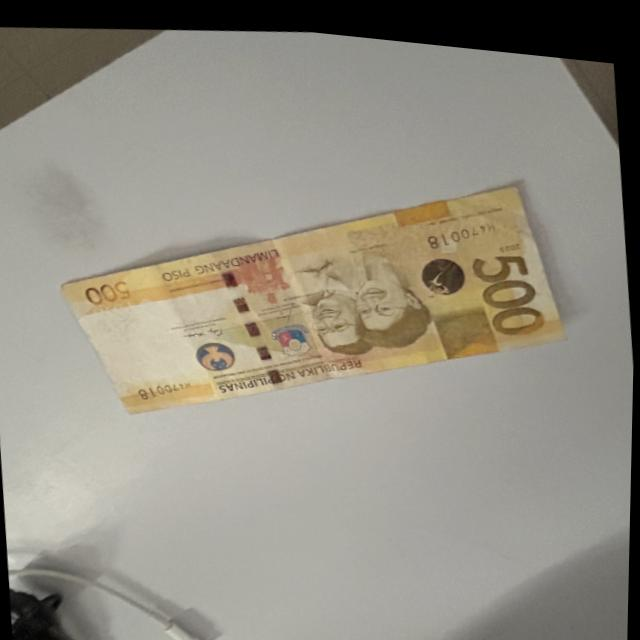concealed_value: (430, 289, 497, 342)
optically_variable_device: (413, 244, 471, 289)
see_through_mark: (80, 289, 166, 320)
